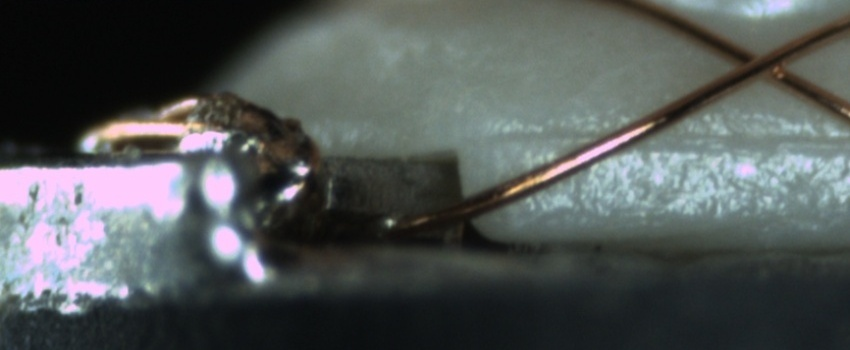CL: (716, 32, 811, 90)
DL: (491, 105, 849, 172)
TE: (74, 86, 212, 156)
